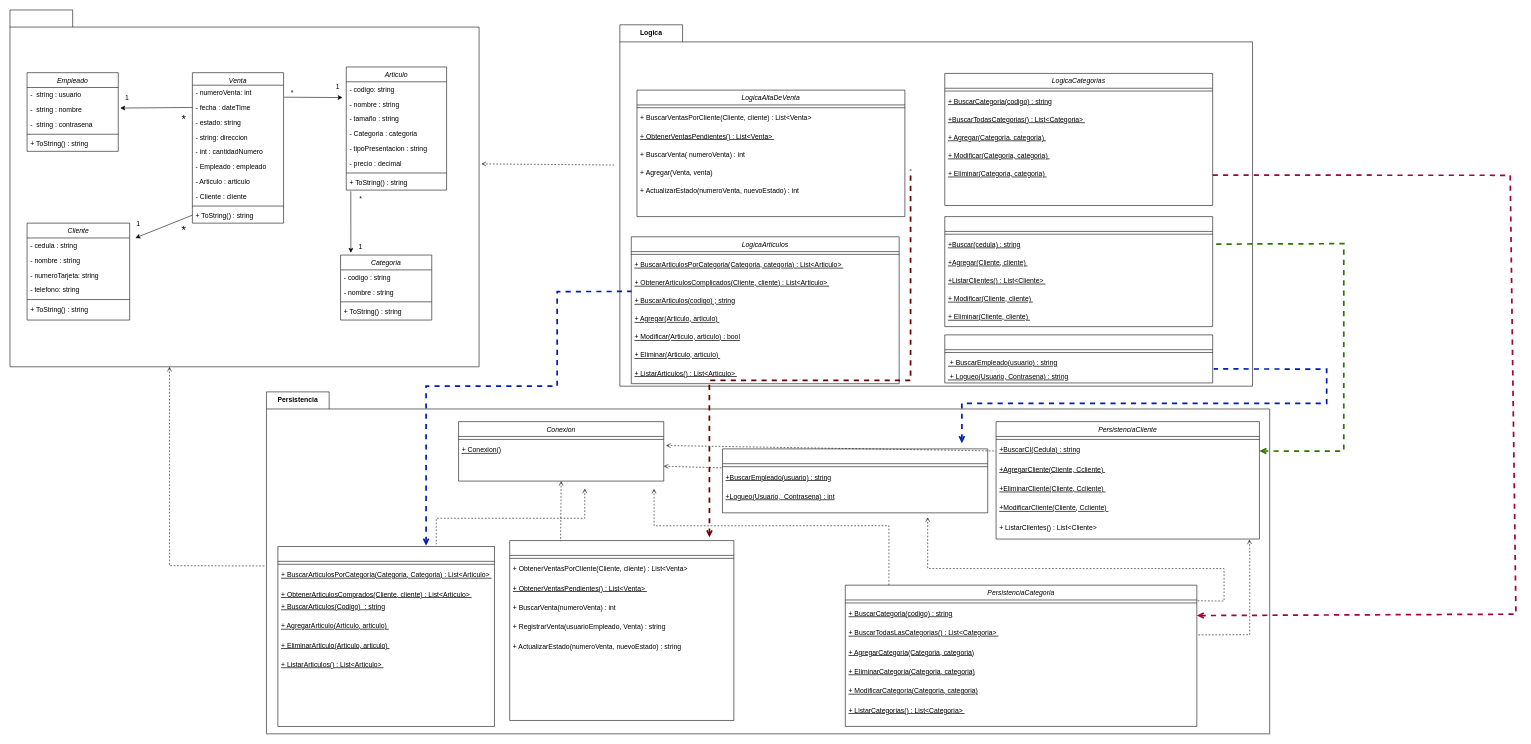
The diagram is 1531 pixels wide and 744 high, and some of its shapes have lost their labels. The shapes that lost their labels are listed below. From the top down, each one's box as (x1, y1, x2, y2) in pixels, then its label:
(9, 9, 479, 367): Entidades Compartidas
(944, 216, 1213, 327): LogicaClientes
(944, 334, 1213, 383): LogicaEmpleado
(722, 448, 988, 513): PersistenciaEmpleado
(277, 546, 494, 726): PersistenciaArticulos
(509, 540, 734, 720): PersistenciaAltaDeVenta
